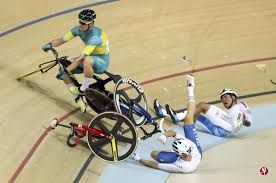fall: (161, 75, 256, 142)
